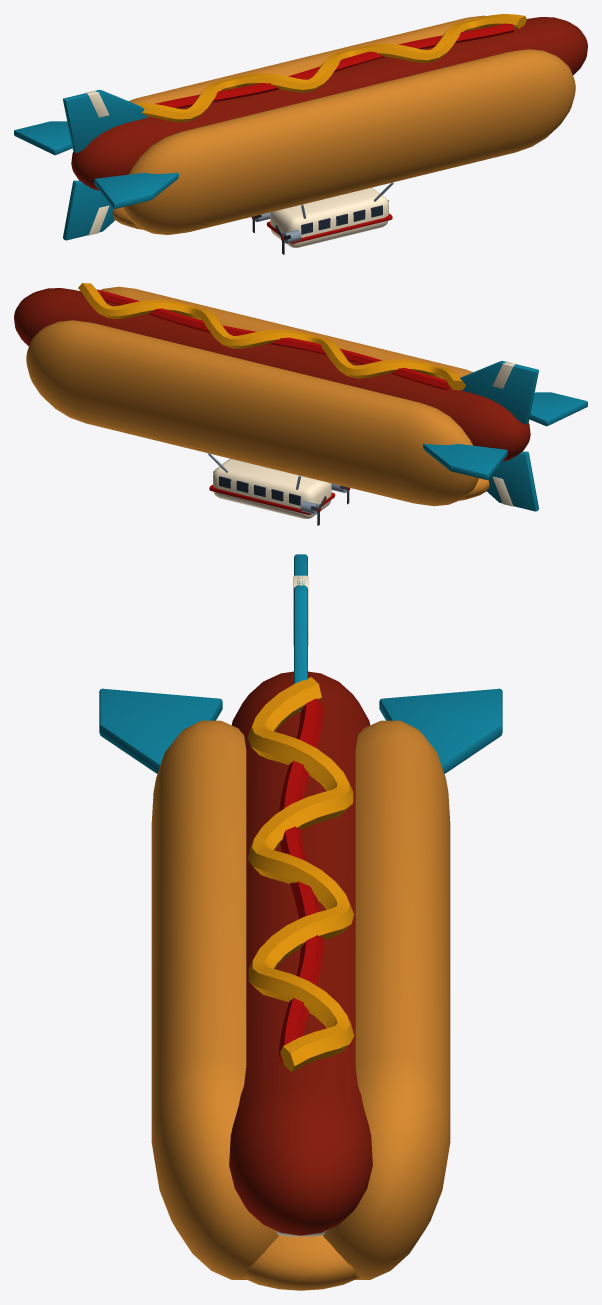
The model's file is Blimp.fbx.
The picture shows the model from 3 angles, top to bottom: view 1: azimuth 30°, elevation 25°; view 2: azimuth 150°, elevation 25°; view 3: azimuth 270°, elevation 25°; orthographic projection. The views are drawn at different scales.
Visible parts, largest first — view 1: Blimp; view 2: Blimp; view 3: Blimp.
Part boxes in pixels (x1=…): Blimp: x1=14, y1=14, x2=587, y2=254; Blimp: x1=14, y1=283, x2=587, y2=525; Blimp: x1=99, y1=554, x2=502, y2=1290.
Bounding box in the file's own units: 38.78 × 14 × 13.
